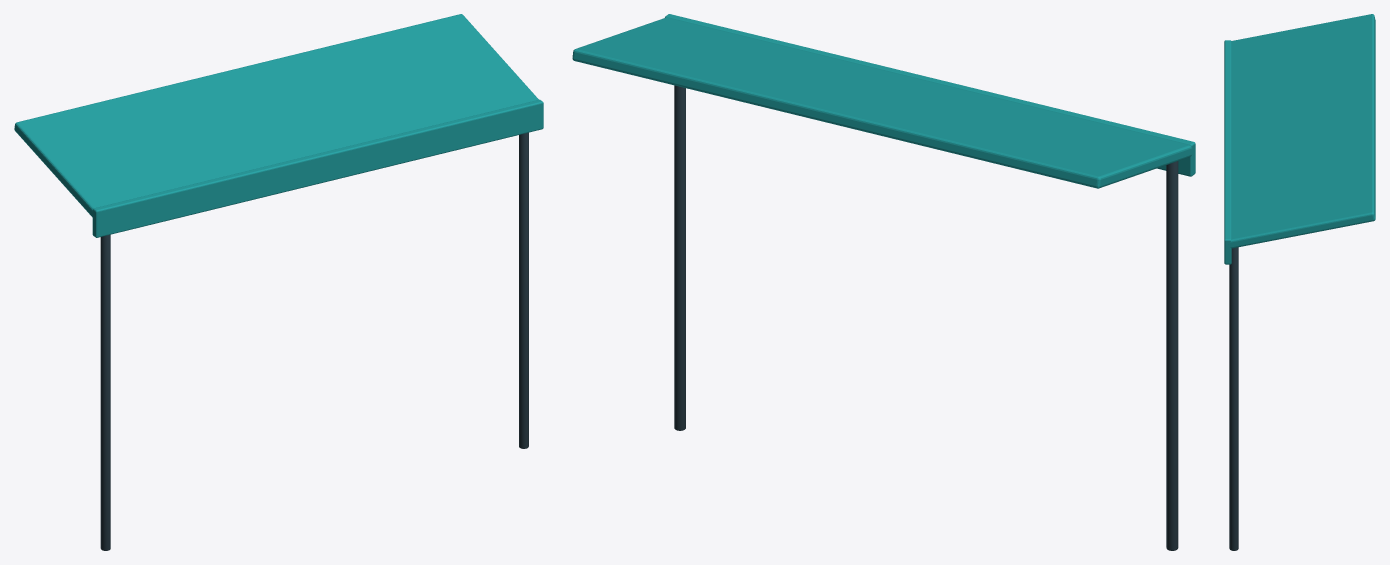
Rendered from Awning_4m.fbx.
3 renders of one model, left to right at view 1: azimuth 30°, elevation 25°; view 2: azimuth 150°, elevation 25°; view 3: azimuth 270°, elevation 25°, orthographic. The views are drawn at different scales.
Visible parts, largest first — view 1: Canvas canopy, Canvas valance, Support.001, Support.002; view 2: Canvas canopy, Support.001, Support.002, Canvas valance; view 3: Canvas canopy, Support.002, Canvas valance.
Part boxes in pixels (box(x1,y1,x2,y2)): Canvas canopy: box(14, 14, 538, 217); Canvas valance: box(92, 99, 543, 237); Support.001: box(100, 234, 110, 550); Support.002: box(519, 132, 528, 448); Canvas canopy: box(572, 17, 1192, 188); Support.001: box(1166, 161, 1178, 550); Support.002: box(674, 85, 685, 430); Canvas valance: box(665, 14, 1195, 176); Canvas canopy: box(1228, 14, 1375, 248); Support.002: box(1229, 247, 1238, 550); Canvas valance: box(1224, 40, 1231, 264).
Bounding box in the file's own units: 3.9 × 3.12 × 1.25.
